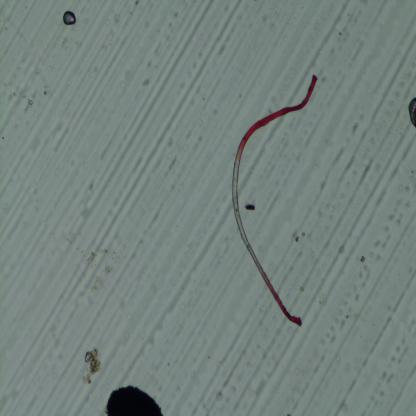Air bubble: (61, 8, 78, 27)
Background material: (104, 383, 164, 416), (86, 233, 115, 291), (80, 349, 102, 387), (406, 97, 416, 130), (333, 30, 348, 48), (295, 229, 310, 242), (336, 240, 346, 256), (244, 202, 258, 212), (360, 254, 366, 264)
Microfibre: (232, 75, 319, 327)
